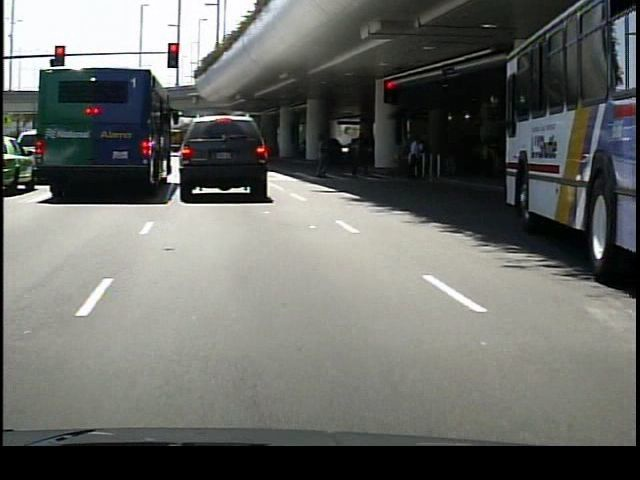person: (352, 129, 375, 184), (312, 130, 337, 179), (405, 134, 425, 183)
